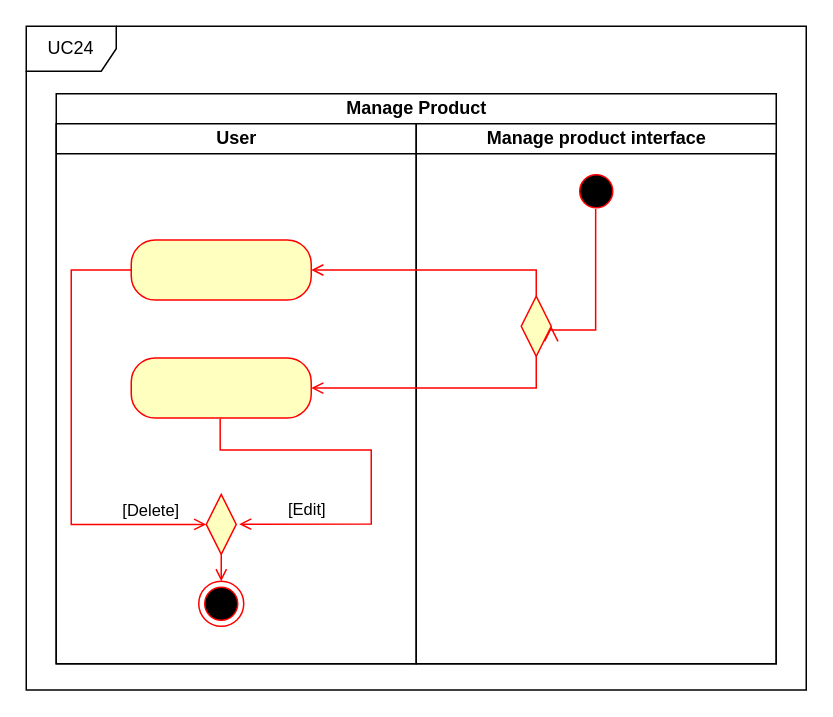
This 833x717 diagram has some shape labels left out. Each missing label, with the centre of its shape:
"Delete" belongs at pixel 220 269.
"Edit" belongs at pixel 220 387.
